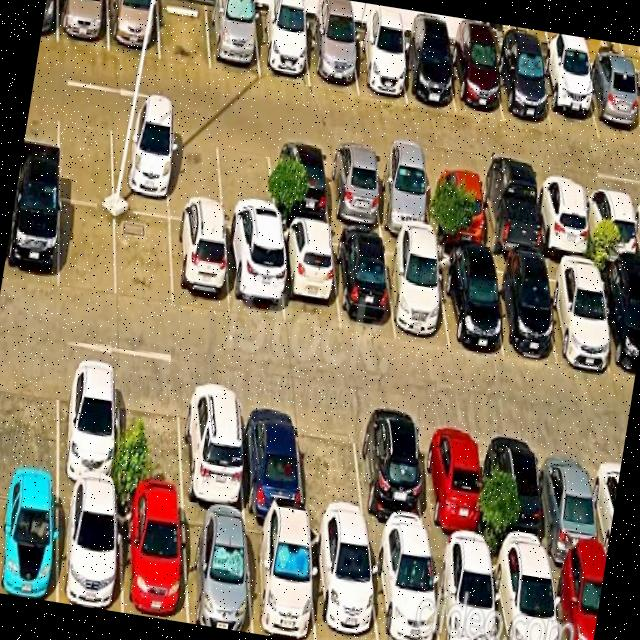empty: (297, 403, 366, 533), (120, 371, 184, 504), (0, 353, 58, 481), (217, 133, 275, 236), (116, 210, 173, 309), (168, 125, 223, 226), (58, 106, 113, 206), (60, 201, 116, 298), (158, 0, 211, 70)
occupied: (354, 411, 428, 543), (418, 418, 485, 552), (182, 507, 252, 633), (539, 436, 605, 567), (119, 497, 187, 623), (181, 381, 245, 514), (246, 517, 315, 640), (239, 391, 304, 521), (58, 486, 122, 613), (58, 360, 119, 493), (488, 428, 549, 559), (309, 526, 378, 640), (544, 261, 613, 371), (0, 478, 58, 602), (436, 250, 503, 357), (369, 538, 439, 640), (487, 257, 556, 360), (384, 240, 449, 349), (430, 544, 499, 640), (332, 232, 395, 337), (279, 224, 339, 331), (111, 115, 169, 218), (2, 188, 60, 290), (490, 553, 558, 640), (170, 220, 230, 316), (224, 230, 284, 325), (477, 171, 541, 259), (425, 164, 487, 249), (269, 141, 330, 226), (372, 155, 433, 238), (323, 148, 383, 232), (538, 58, 599, 139), (597, 268, 640, 381), (534, 178, 592, 261), (583, 184, 640, 268), (495, 48, 552, 131), (582, 64, 640, 145), (549, 560, 605, 640), (398, 38, 456, 113), (449, 42, 504, 121), (254, 11, 310, 87), (350, 30, 406, 104), (207, 2, 260, 79), (306, 23, 358, 93), (108, 0, 160, 59), (58, 0, 109, 51)
